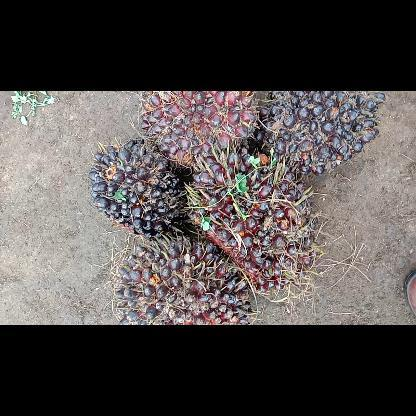TBS mentah: (184, 144, 322, 296), (109, 234, 255, 324), (254, 90, 386, 178), (86, 136, 186, 240), (138, 90, 260, 170)
